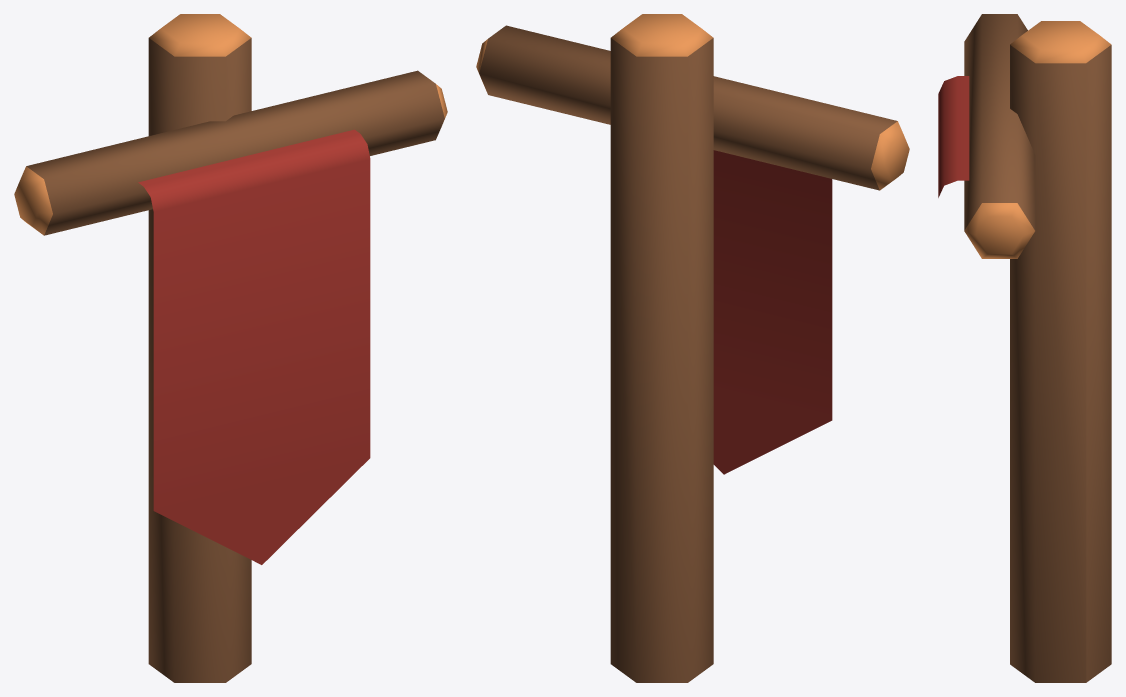
The model's file is Flag-1.fbx.
3 renders of one model, left to right at view 1: azimuth 30°, elevation 25°; view 2: azimuth 150°, elevation 25°; view 3: azimuth 270°, elevation 25°, orthographic.
Visible parts, largest first — view 1: Cube.1518, Cylinder.309, Cylinder.310; view 2: Cylinder.309, Cube.1518, Cylinder.310; view 3: Cylinder.309, Cylinder.310, Cube.1518.
Boxes of the visible parts, bbox=[...] form: Cube.1518: bbox=[138, 129, 370, 564]; Cylinder.309: bbox=[148, 14, 251, 682]; Cylinder.310: bbox=[14, 70, 447, 235]; Cylinder.309: bbox=[610, 14, 713, 682]; Cube.1518: bbox=[713, 150, 832, 474]; Cylinder.310: bbox=[476, 25, 909, 190]; Cylinder.309: bbox=[1010, 21, 1111, 682]; Cylinder.310: bbox=[964, 14, 1035, 258]; Cube.1518: bbox=[938, 76, 969, 197].
Size of the model in its own units: 36.18 by 53.66 by 13.39.
